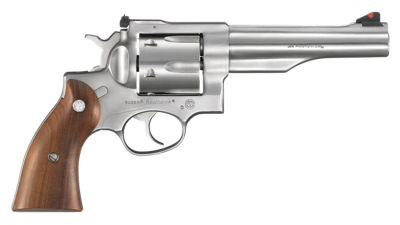Revolver: (5, 2, 389, 214)
